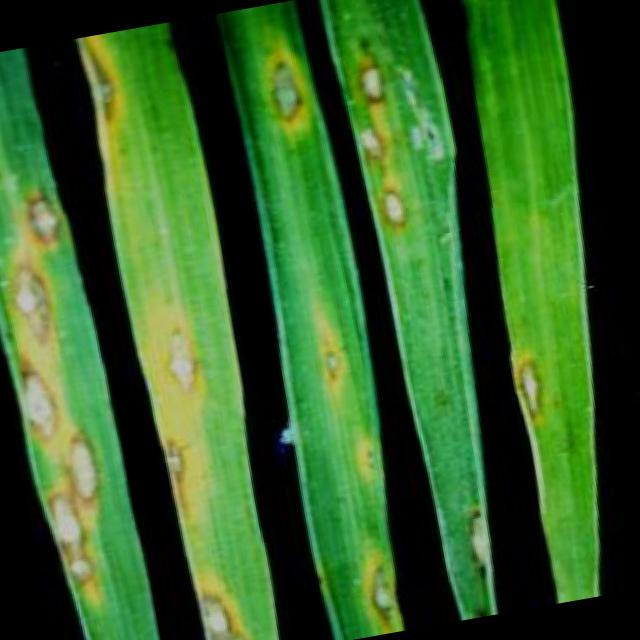Rice_Blast: (138, 291, 245, 410), (316, 530, 428, 638), (26, 473, 110, 600), (438, 453, 509, 602), (281, 288, 361, 415), (75, 34, 169, 128), (0, 245, 82, 351), (1, 346, 76, 445), (240, 42, 316, 136), (498, 336, 568, 434), (336, 33, 411, 120), (4, 172, 80, 250), (42, 426, 116, 504), (182, 577, 251, 640), (332, 424, 391, 496), (342, 106, 404, 169), (360, 164, 416, 231), (150, 431, 212, 489)
